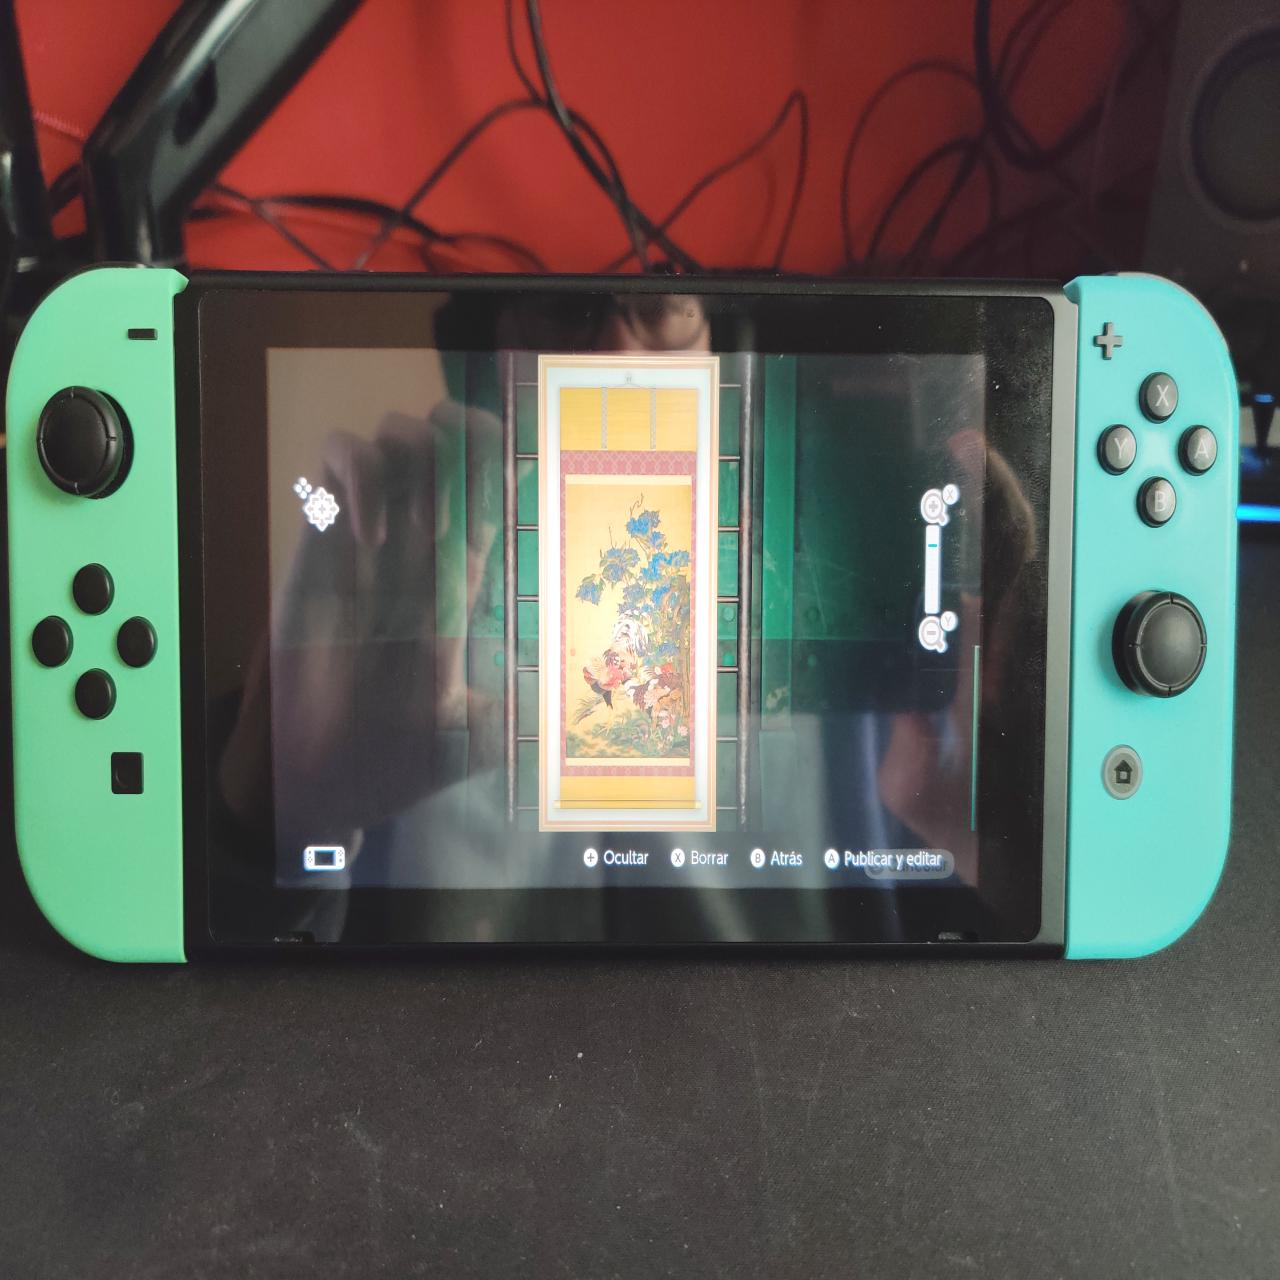Ajisaisoukeizu: (567, 470, 695, 765)
